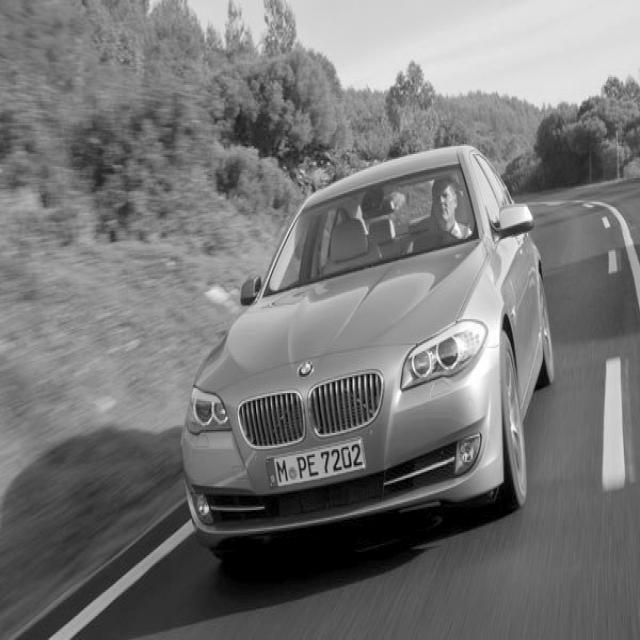car: (179, 143, 555, 556)
plat_license: (264, 436, 366, 488)
